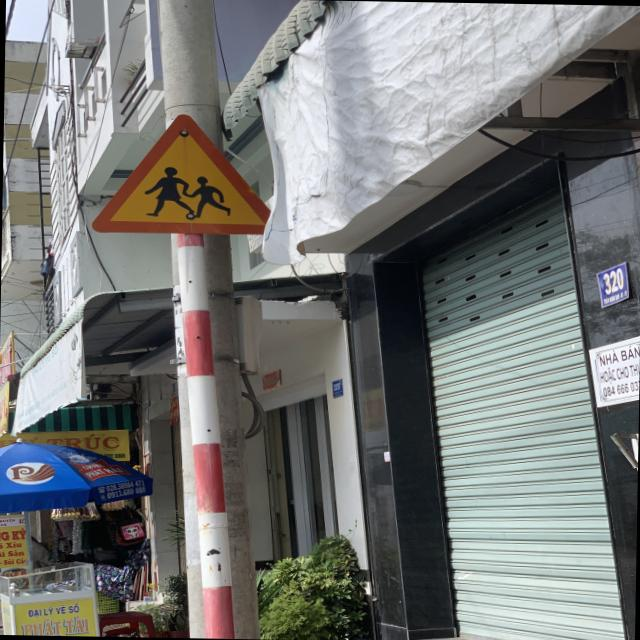Vong_Xuyen: (92, 113, 280, 234)
